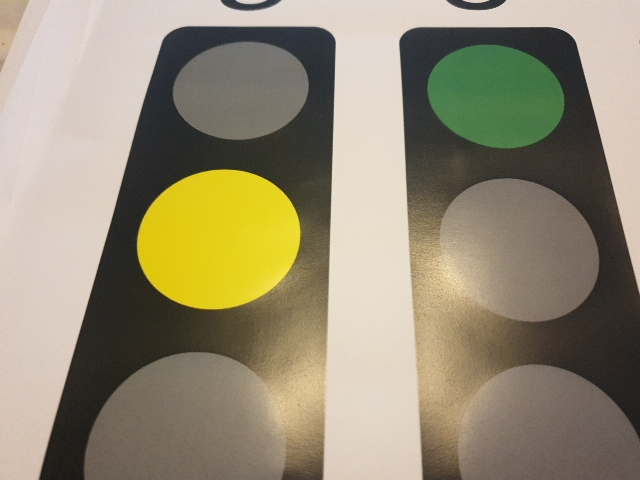amber: (173, 35, 301, 470)
green: (411, 30, 586, 472)
